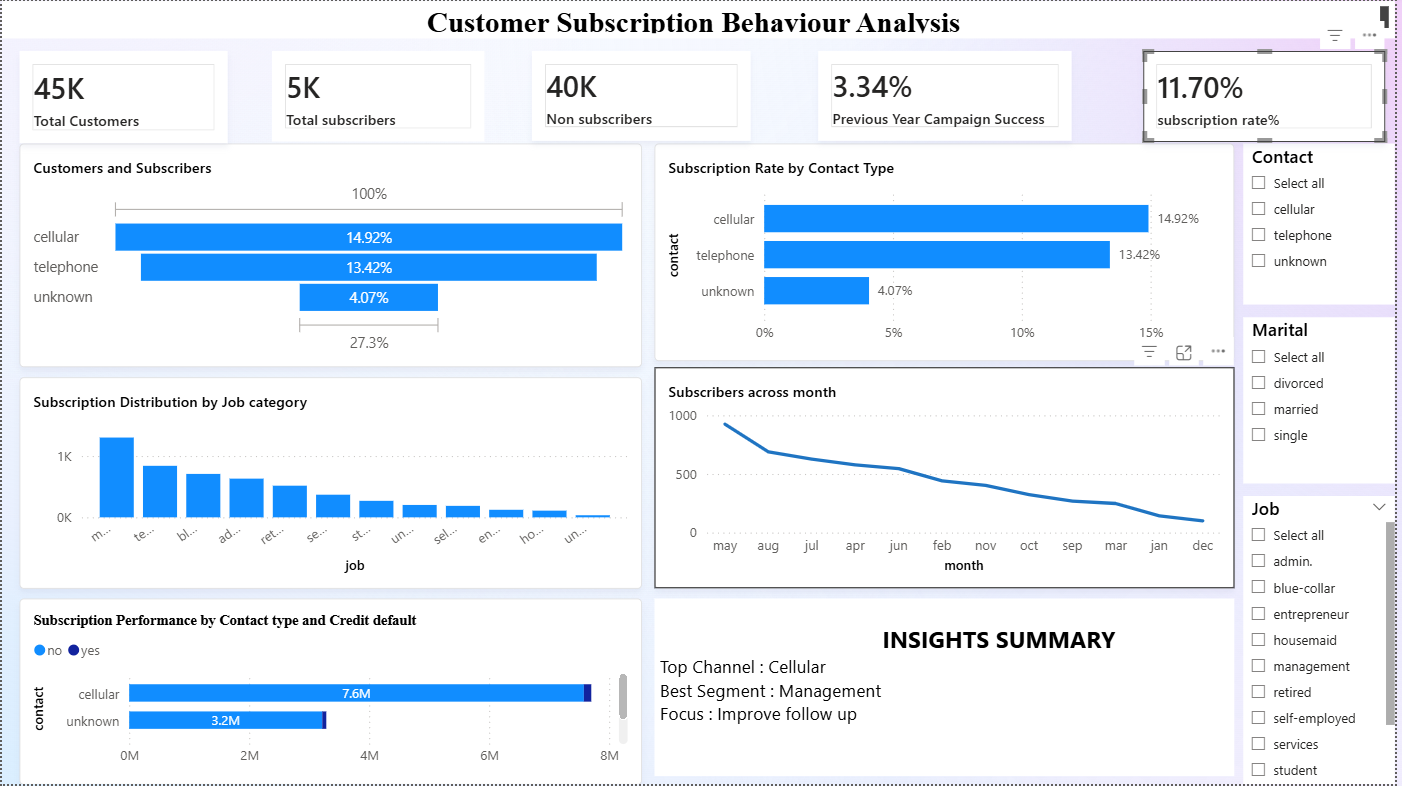

The page's visual inventory and layout, read from the dashboard file:
{"tool":"powerbi","page":{"name":"Page 2","canvas":[1280,720],"ordinal":1},"visuals":[{"type":"columnChart","title":"Subscription Distribution by Job category","fields":{"Category":["bank-full transformed data.job"],"Y":["bank-full transformed data.Total subscribers"]},"box":[16.1,345.8,572.1,194.1],"z":0},{"type":"funnel","title":"Customers and Subscribers","fields":{"Category":["bank-full transformed data.contact"],"Y":["bank-full transformed data.subscription rate%"]},"box":[16.1,131,572.1,205.6],"z":1000},{"type":"clusteredBarChart","title":"Subscription Rate by Contact Type","fields":{"Y":["bank-full transformed data.subscription rate%"],"Category":["bank-full transformed data.contact"]},"box":[599.6,131,533,199.9],"z":2000},{"type":"lineChart","title":"Subscribers across month","fields":{"Category":["bank-full transformed data.month"],"Y":["bank-full transformed data.Total subscribers"]},"box":[599.6,336.6,533,203.3],"z":3000},{"type":"slicer","fields":{"Values":["bank-full transformed data.contact"]},"box":[1140.7,131,139,148.2],"z":4000},{"type":"slicer","fields":{"Values":["bank-full transformed data.marital"]},"box":[1140.7,290.6,139,152.8],"z":5000},{"type":"slicer","fields":{"Values":["bank-full transformed data.job"]},"box":[1140.7,454.9,139,265.3],"z":6000},{"type":"cardVisual","fields":{"Data":["bank-full transformed data.total customers"]},"box":[16.1,45.9,191.8,85],"z":7000},{"type":"cardVisual","fields":{"Data":["bank-full transformed data.Total subscribers"]},"box":[248.1,45.9,195.3,83.9],"z":8000},{"type":"cardVisual","fields":{"Data":["bank-full transformed data.Non subscribers"]},"box":[487,45.9,201,82.7],"z":9000},{"type":"cardVisual","fields":{"Data":["bank-full transformed data.subscription rate%"]},"box":[1048.8,45.9,222.8,83.9],"z":10000},{"type":"cardVisual","fields":{"Data":["bank-full transformed data.Previous Year Campaign Success"]},"box":[750.1,45.9,233.2,82.7],"z":11000},{"type":"barChart","title":"Subscription Performance by Contact type and Credit default","fields":{"Category":["bank-full transformed data.contact","bank-full transformed data.job","bank-full transformed data.marital"],"Series":["bank-full transformed data.credit default"],"Y":["Sum(bank-full transformed data.duration)"]},"box":[16.1,549.1,572.1,171.2],"z":12000},{"type":"textbox","box":[599.6,549.1,533,163.1],"z":13000},{"type":"textbox","box":[0,0,1279.6,34.5],"z":13001}]}

Visuals, with their boxes in screenshot pixels (x1, y1, x2, y2), scaled from the page's 1280x720 canvas onto the 1402x786 screenshot:
"Subscription Distribution by Job category" columnChart: crop(18, 377, 644, 589)
"Customers and Subscribers" funnel: crop(18, 143, 644, 367)
"Subscription Rate by Contact Type" clusteredBarChart: crop(657, 143, 1241, 361)
"Subscribers across month" lineChart: crop(657, 367, 1241, 589)
slicer - bank-full transformed data.contact: crop(1249, 143, 1401, 305)
slicer - bank-full transformed data.marital: crop(1249, 317, 1401, 484)
slicer - bank-full transformed data.job: crop(1249, 497, 1401, 785)
cardVisual - bank-full transformed data.total customers: crop(18, 50, 228, 143)
cardVisual - bank-full transformed data.Total subscribers: crop(272, 50, 486, 142)
cardVisual - bank-full transformed data.Non subscribers: crop(533, 50, 754, 140)
cardVisual - bank-full transformed data.subscription rate%: crop(1149, 50, 1393, 142)
cardVisual - bank-full transformed data.Previous Year Campaign Success: crop(822, 50, 1077, 140)
"Subscription Performance by Contact type and Credit default" barChart: crop(18, 599, 644, 785)
textbox: crop(657, 599, 1241, 777)
textbox: crop(0, 0, 1401, 38)
